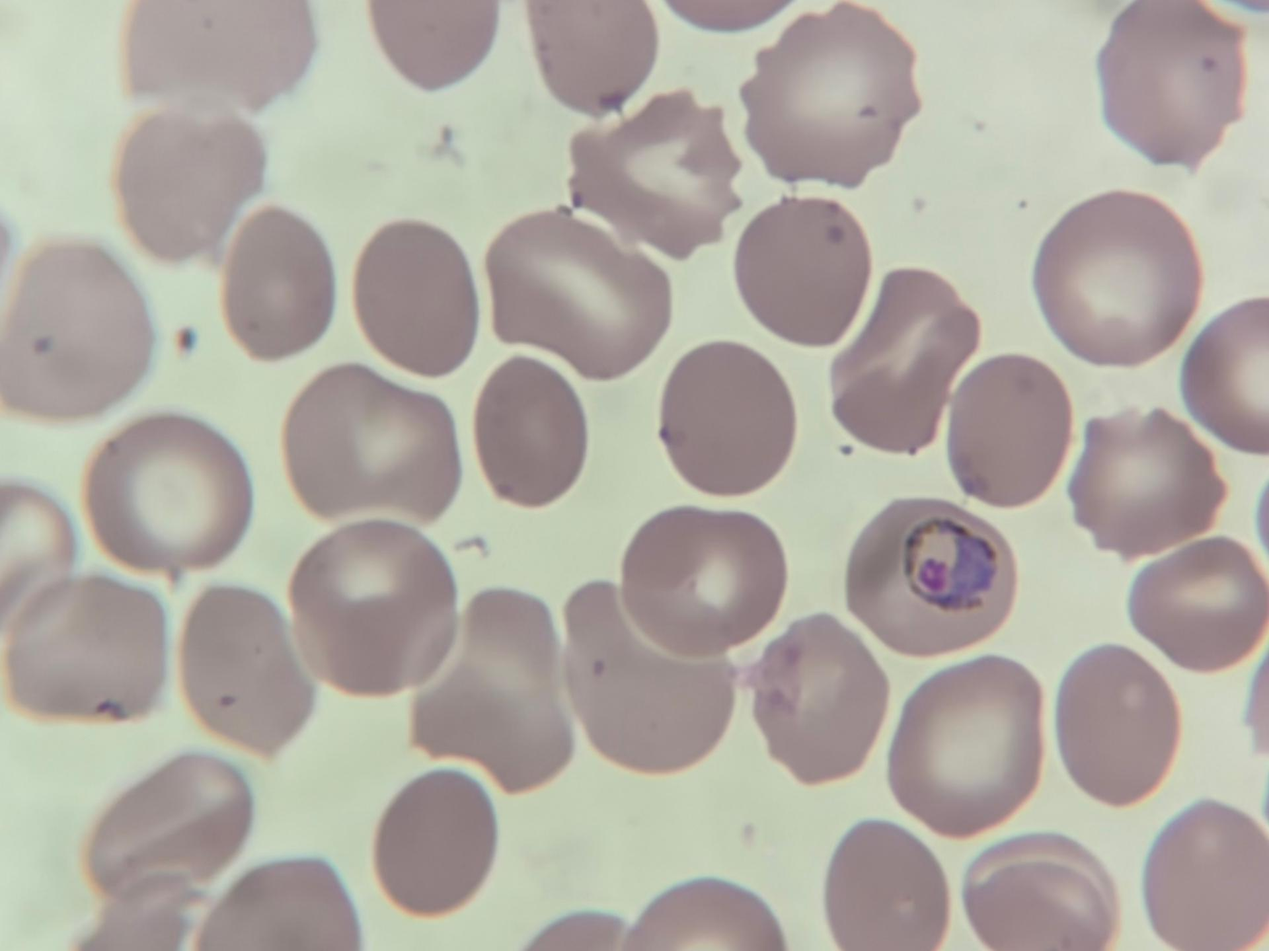Infected: (846, 499, 1015, 658)
Uninfected: (555, 578, 733, 777), (394, 591, 577, 778), (476, 210, 671, 384), (289, 518, 463, 702), (282, 366, 463, 533), (894, 662, 1058, 846), (749, 10, 911, 192), (571, 84, 740, 255), (1040, 199, 1215, 362), (0, 243, 159, 418), (831, 265, 972, 459), (84, 421, 251, 583), (617, 505, 781, 662), (758, 609, 893, 793), (1073, 408, 1228, 568), (1097, 0, 1247, 165), (4, 587, 167, 730), (1128, 789, 1269, 951), (1053, 631, 1181, 809), (189, 582, 316, 756), (123, 115, 266, 264), (943, 349, 1078, 505), (662, 340, 798, 493), (88, 759, 242, 893), (359, 225, 479, 392), (368, 763, 498, 913), (969, 833, 1132, 951), (1132, 545, 1269, 684), (745, 190, 862, 348), (220, 203, 339, 358), (824, 820, 955, 951), (480, 355, 593, 502), (1185, 298, 1269, 449)
